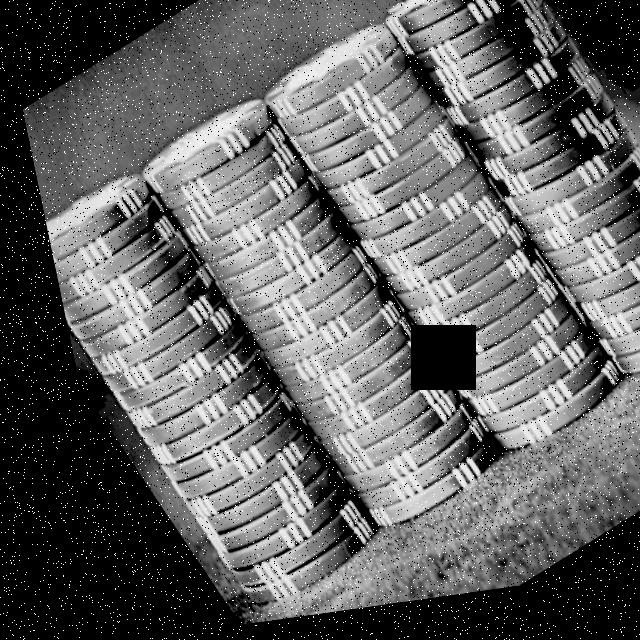Chip: (104, 60, 507, 582), (234, 0, 628, 508), (28, 138, 372, 634), (361, 0, 640, 426)
